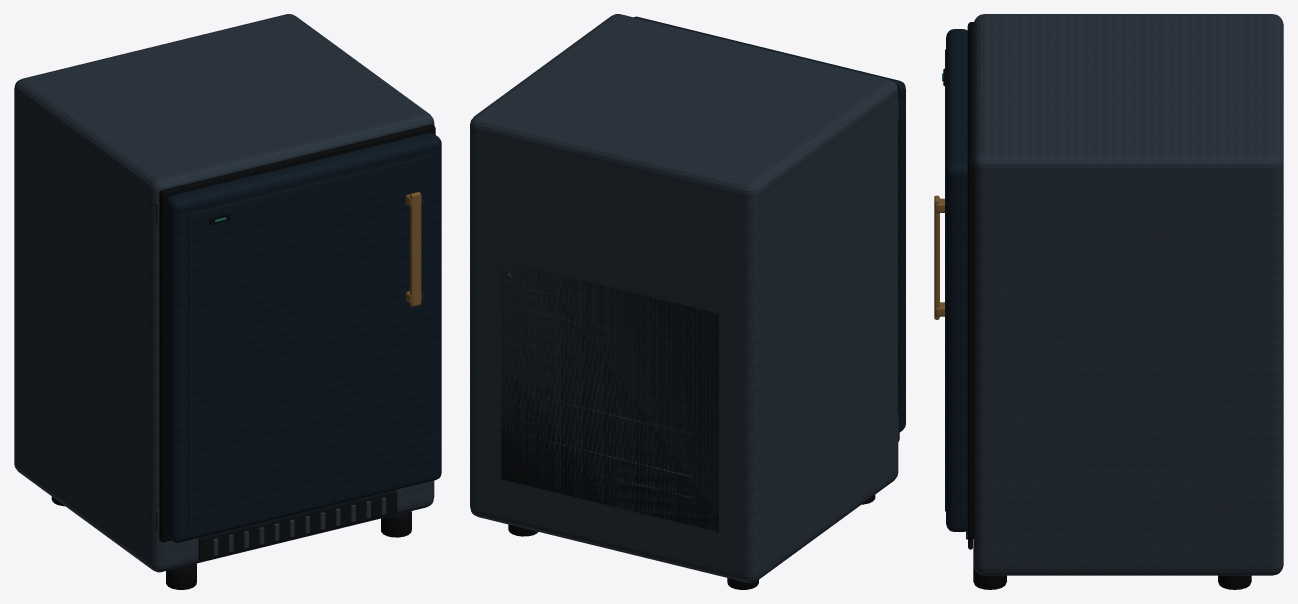
3 renders of one model, left to right at view 1: azimuth 30°, elevation 25°; view 2: azimuth 150°, elevation 25°; view 3: azimuth 270°, elevation 25°, orthographic. The views are drawn at different scales.
Parts seen in each view (by area): view 1: bb_set_mini_fridge; view 2: bb_set_mini_fridge; view 3: bb_set_mini_fridge.
Part boxes in pixels (left/top/right/bottom): bb_set_mini_fridge: left=14, top=14, right=441, bottom=589; bb_set_mini_fridge: left=470, top=14, right=905, bottom=589; bb_set_mini_fridge: left=934, top=14, right=1283, bottom=589.
Bounding box in the file's own units: 0.5 × 0.7 × 0.5.
1 material, 1 textured.
